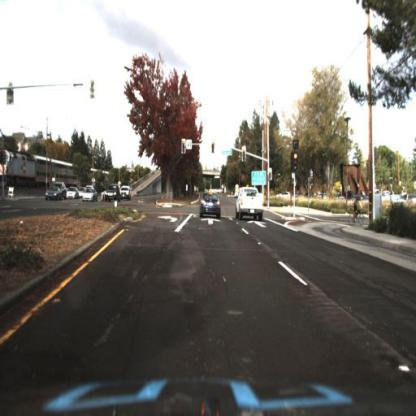biker: (348, 194, 366, 222)
car: (235, 188, 267, 218), (46, 175, 67, 204), (200, 192, 222, 214), (102, 185, 120, 203), (81, 187, 97, 205), (105, 186, 119, 204), (82, 189, 98, 204), (46, 187, 61, 202), (120, 184, 131, 203), (121, 186, 133, 202), (279, 191, 292, 203), (69, 186, 81, 198), (68, 186, 79, 199)
trafficLight-Red: (211, 138, 221, 152), (240, 147, 248, 163), (294, 152, 299, 175), (210, 139, 216, 155), (242, 149, 248, 165), (292, 151, 299, 164)
trafficLight-RedLeft: (181, 137, 189, 156)
